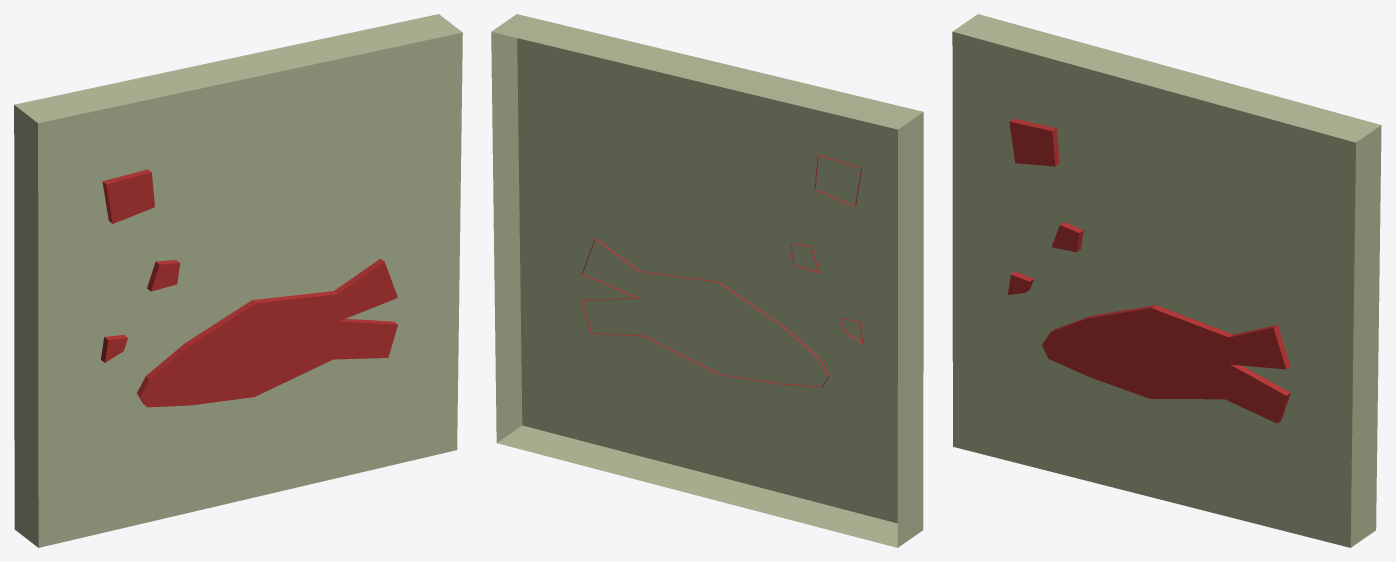
The model's file is Picture_16.fbx.
3 views of the same model, side by side, from view 1: azimuth 30°, elevation 25°; view 2: azimuth 150°, elevation 25°; view 3: azimuth 330°, elevation 25° (orthographic). The views are drawn at different scales.
Visible parts, largest first — view 1: Picture_16; view 2: Picture_16; view 3: Picture_16.
Boxes of the visible parts, x1=… form: Picture_16: x1=14, y1=14, x2=462, y2=547; Picture_16: x1=491, y1=14, x2=923, y2=547; Picture_16: x1=952, y1=14, x2=1381, y2=547.
Size of the model in its own units: 52.36 by 7.38 by 50.61.
